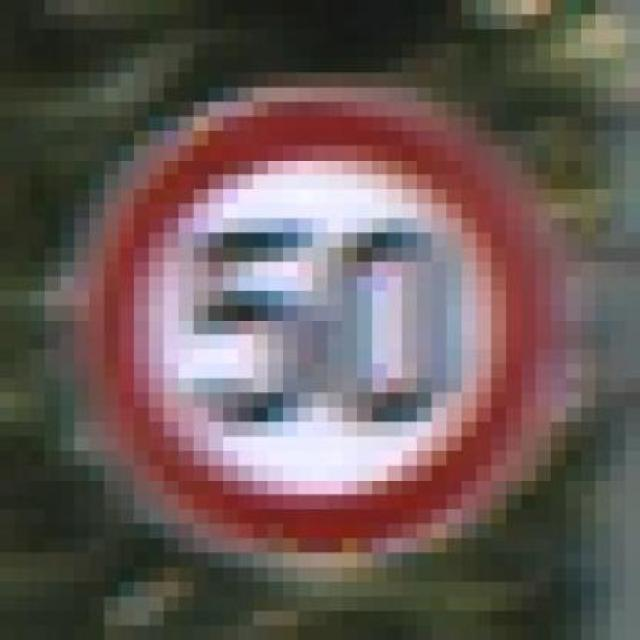forb_speed_over_50: (97, 88, 532, 551)
